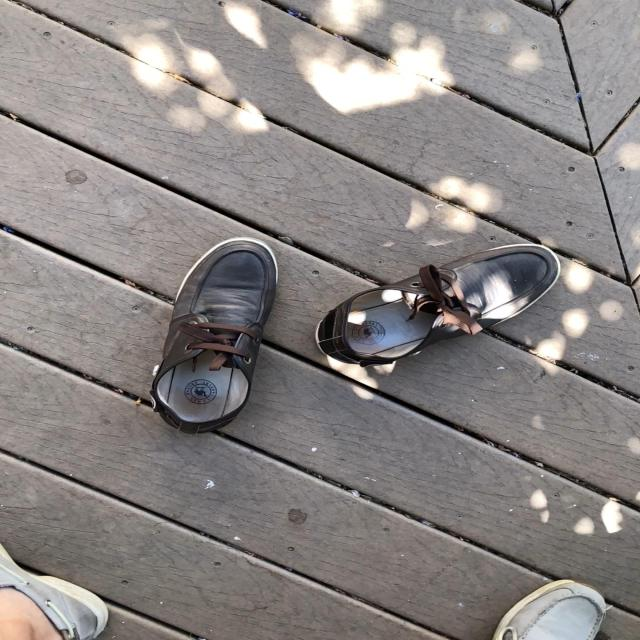shoe: (314, 245, 562, 375), (150, 238, 278, 435)
